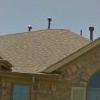Chimney: (42, 12, 60, 35)
